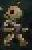zombie: (1, 0, 32, 50)
